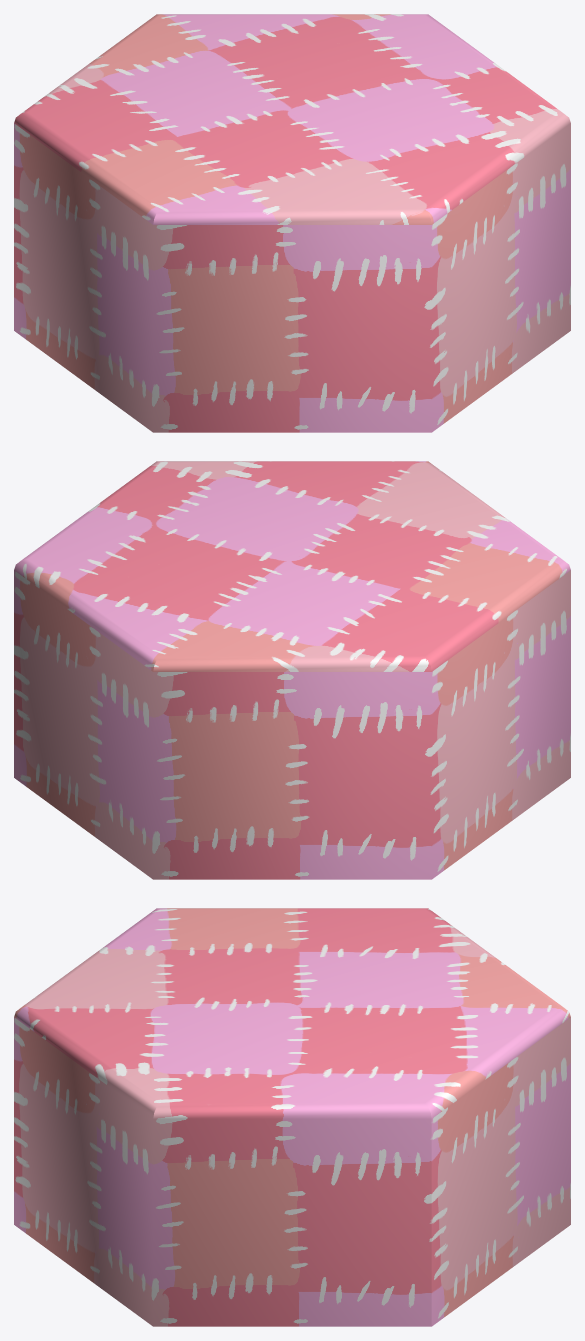
Rendered from Hexagon.fbx.
The picture shows the model from 3 angles, top to bottom: view 1: azimuth 30°, elevation 25°; view 2: azimuth 150°, elevation 25°; view 3: azimuth 270°, elevation 25°; orthographic projection.
Parts seen in each view (by area): view 1: hex_blanket; view 2: hex_blanket; view 3: hex_blanket.
Part boxes in pixels (left/top/right/bottom): hex_blanket: left=14, top=14, right=570, bottom=432; hex_blanket: left=14, top=461, right=570, bottom=879; hex_blanket: left=14, top=908, right=570, bottom=1326.
Bounding box in the file's own units: 100 × 50 × 115.
